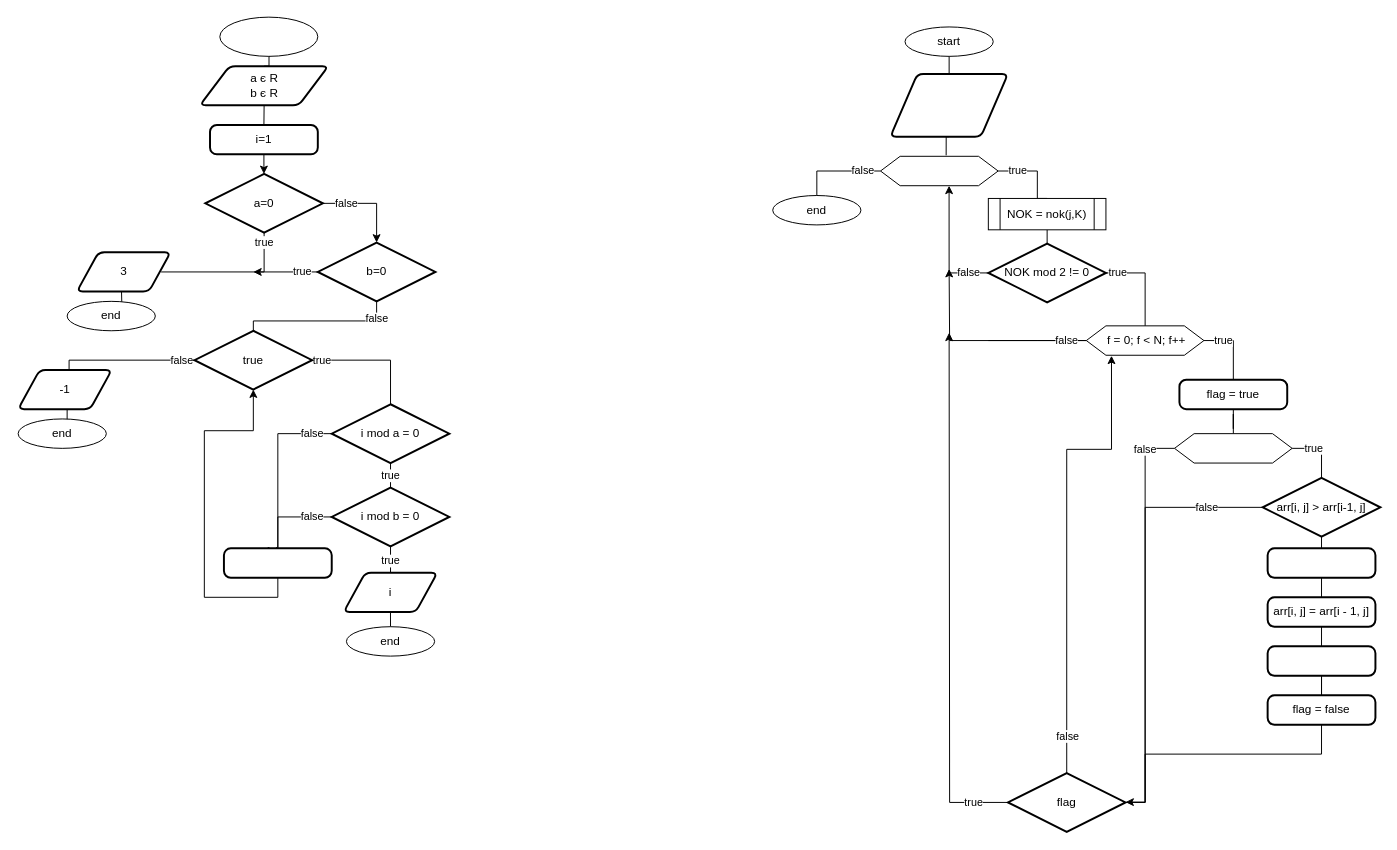
Some shapes in this 1397 by 850 pixel diagram are drawn without their labels. The centre of each missing label's shape, as x and y in pixels:
"arr int[,] N є R M є R K є R" belongs at (948,105).
"arr[i - 1, j] = buf" belongs at (1321,660).
"buf = arr[i, j]" belongs at (1321,562).
"i = N - 1; i > 0; i--" belongs at (1233,448).
"i=i+1" belongs at (277,562).
"j=0; j<M; j++" belongs at (939,170).
"nok" belongs at (268,36).
